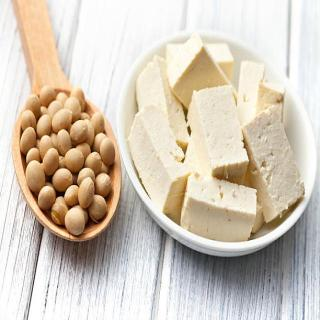Tahu: (127, 36, 303, 248)
